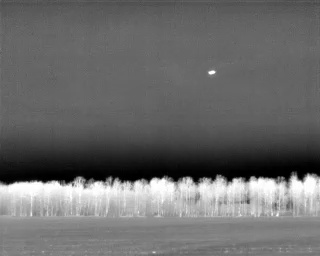DRONE: (205, 66, 219, 79)
